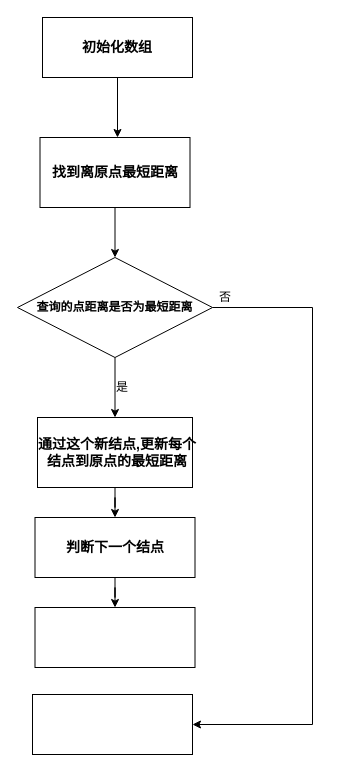
Image size: 338x772. Some labels were removed from this diagram. Here are the shapes that lost their labels. From the top down, the centre of each, then its label:
At [114,637]: "所有结点判断完毕,返回true".
At [112,724]: "返回false".
